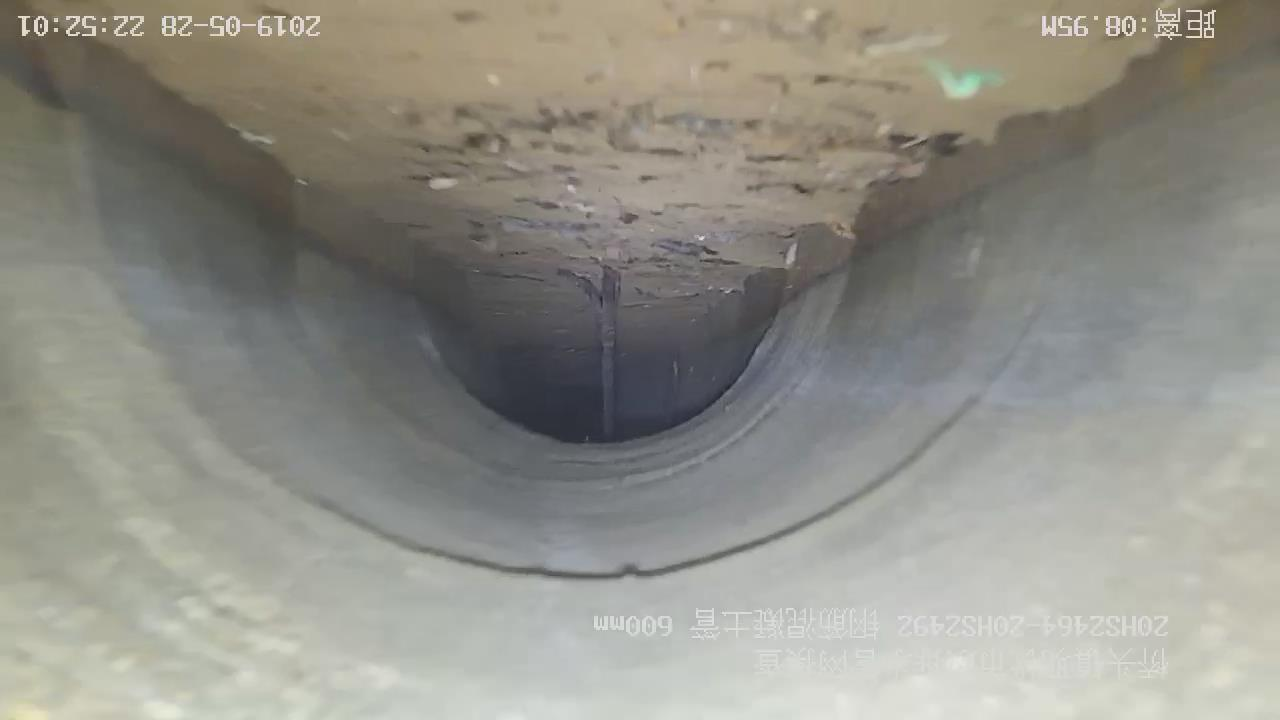CJ: (40, 1, 1156, 348)
YWCR: (561, 266, 621, 438)
